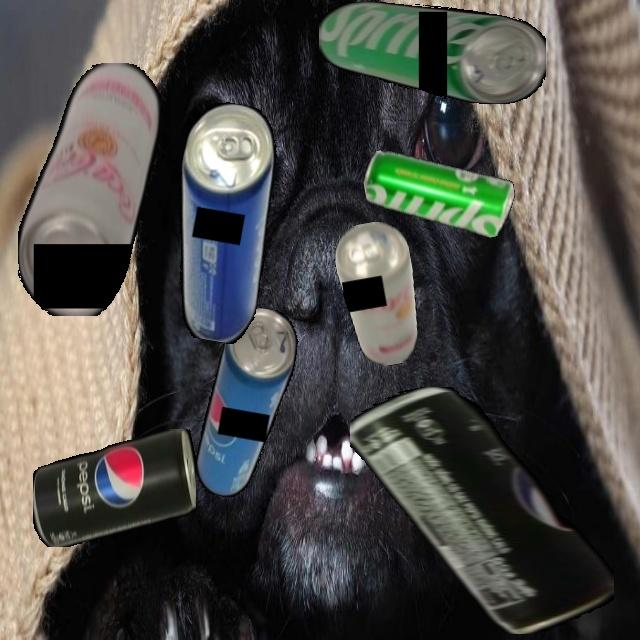debris: (350, 386, 614, 634), (17, 62, 160, 316), (153, 97, 290, 347), (318, 2, 546, 104), (191, 302, 303, 504), (359, 129, 521, 257), (32, 428, 196, 547), (330, 217, 428, 371)
